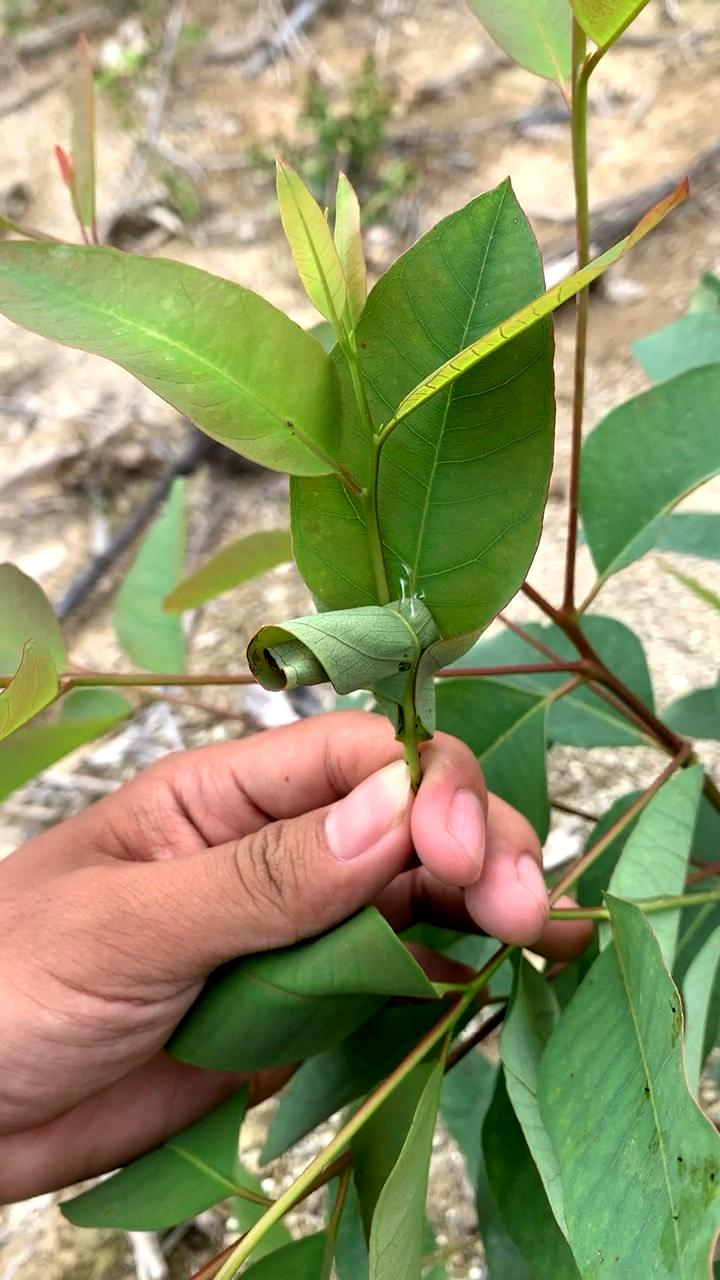Leaf Roller - Leaf: (219, 543, 483, 782)
